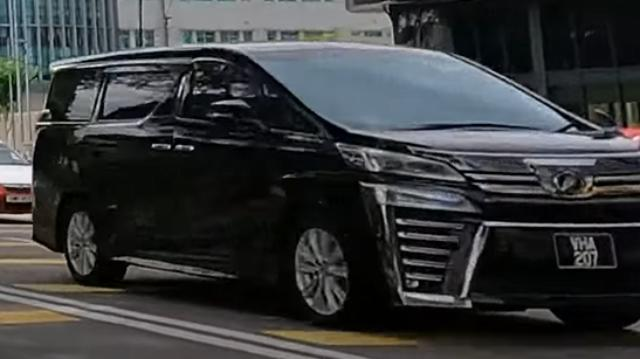License_Plate: (552, 231, 618, 271)
car: (32, 41, 640, 332), (1, 137, 33, 222)
